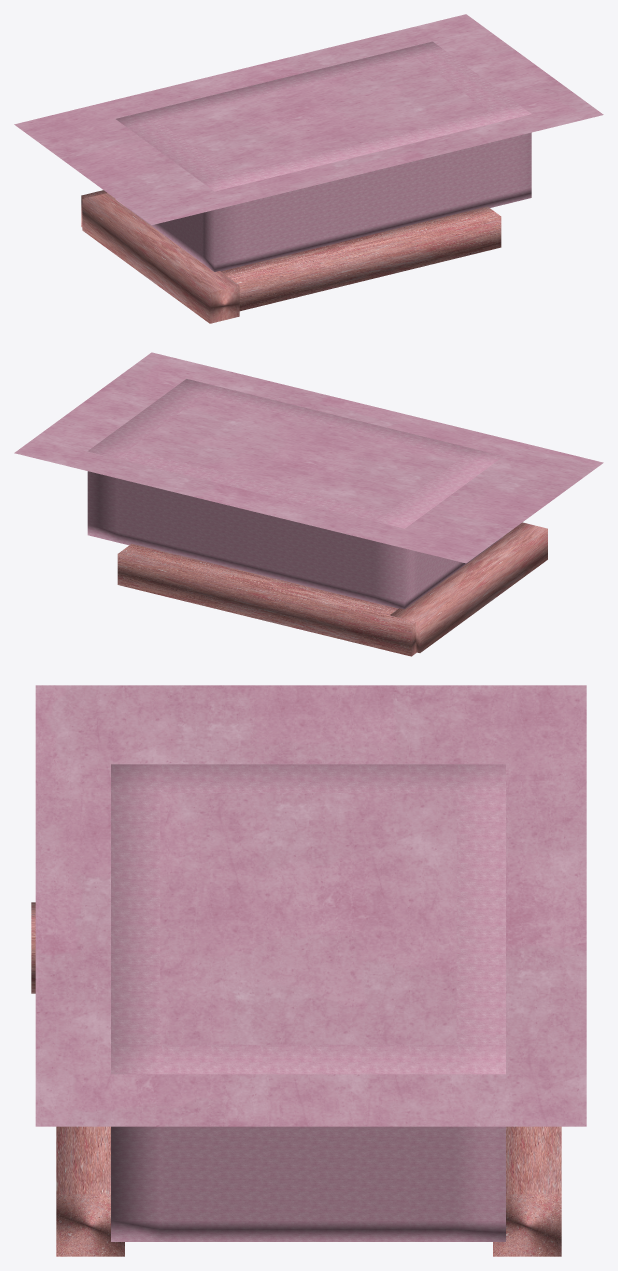
Rendered from temp_krik1_temp.glb.
3 views of the same model, one above another, from view 1: azimuth 30°, elevation 25°; view 2: azimuth 150°, elevation 25°; view 3: azimuth 270°, elevation 25° (orthographic). The views are drawn at different scales.
Visible parts, largest first — view 1: roof, room, Cube.004, Cube.002; view 2: roof, room, Cube.006, Cube.002; view 3: roof, room, Cube.006, Cube.004.
Boxes of the visible parts, box(x1,y1,x2,y2) form: roof: box(14, 14, 603, 224); room: box(115, 41, 531, 271); Cube.004: box(221, 206, 501, 311); Cube.002: box(82, 193, 239, 323); roof: box(14, 352, 603, 563); room: box(87, 379, 503, 609); Cube.006: box(117, 543, 416, 656); Cube.002: box(390, 522, 547, 652); roof: box(35, 685, 586, 1126); room: box(111, 764, 505, 1241); Cube.006: box(493, 1126, 561, 1256); Cube.004: box(56, 1126, 124, 1256).
Size of the model in its own units: 30.39 by 7.25 by 16.15.
Materials: 27 (10 with a texture image).
